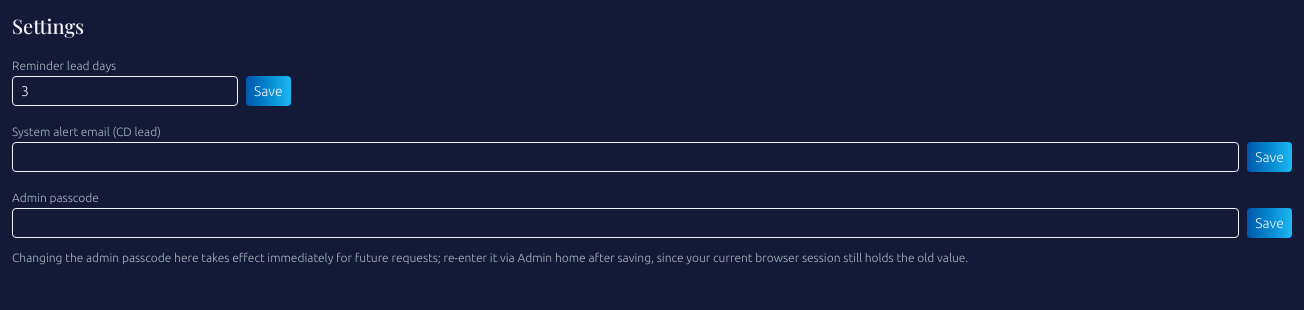
it: SettingsPage › saves reminderLeadDays and shows a confirmation
The image size is (1304, 310).
Replace the text in the 1st field with "5" at [125, 91], box [12, 76, 238, 106]
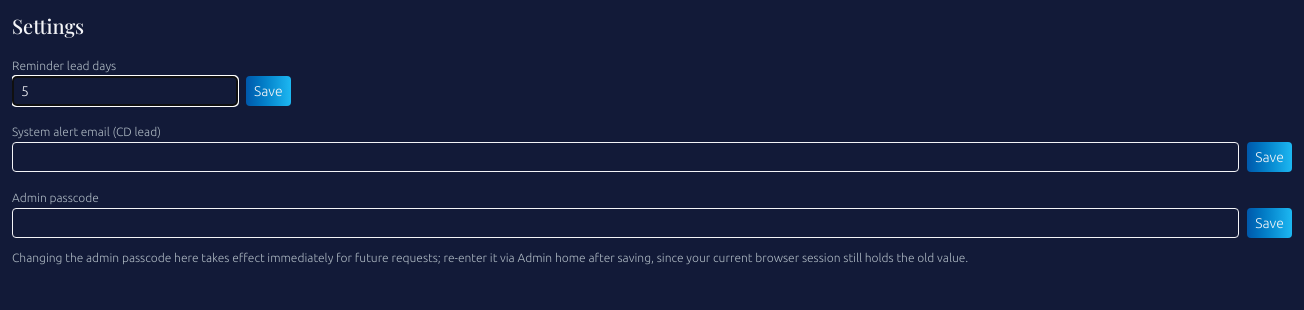
Click the 1st button "Save" at [268, 91], box [246, 76, 291, 106]
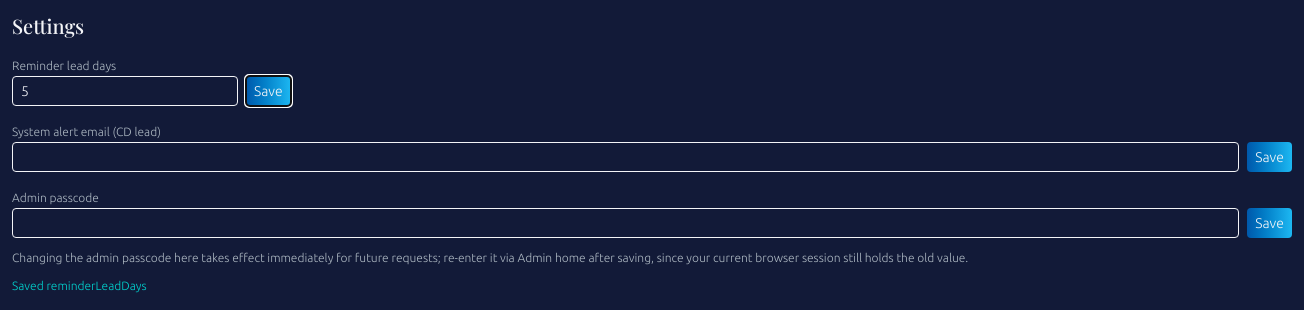
Expected: the text "Saved reminderLeadDays" is shown, [12, 279, 147, 292]
